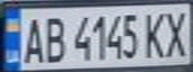1: (90, 11, 109, 61)
4: (69, 11, 93, 62), (106, 10, 127, 60)
5: (121, 10, 142, 60)
A: (18, 12, 48, 64)
B: (39, 12, 69, 64)
K: (139, 8, 169, 59)
X: (163, 7, 193, 57)
